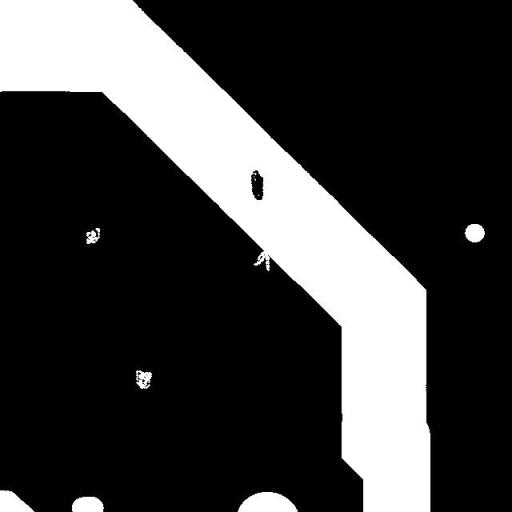copper: (244, 162, 270, 208)
mousebite: (246, 242, 276, 278)
pin-hole: (128, 362, 159, 396), (78, 220, 108, 251)
